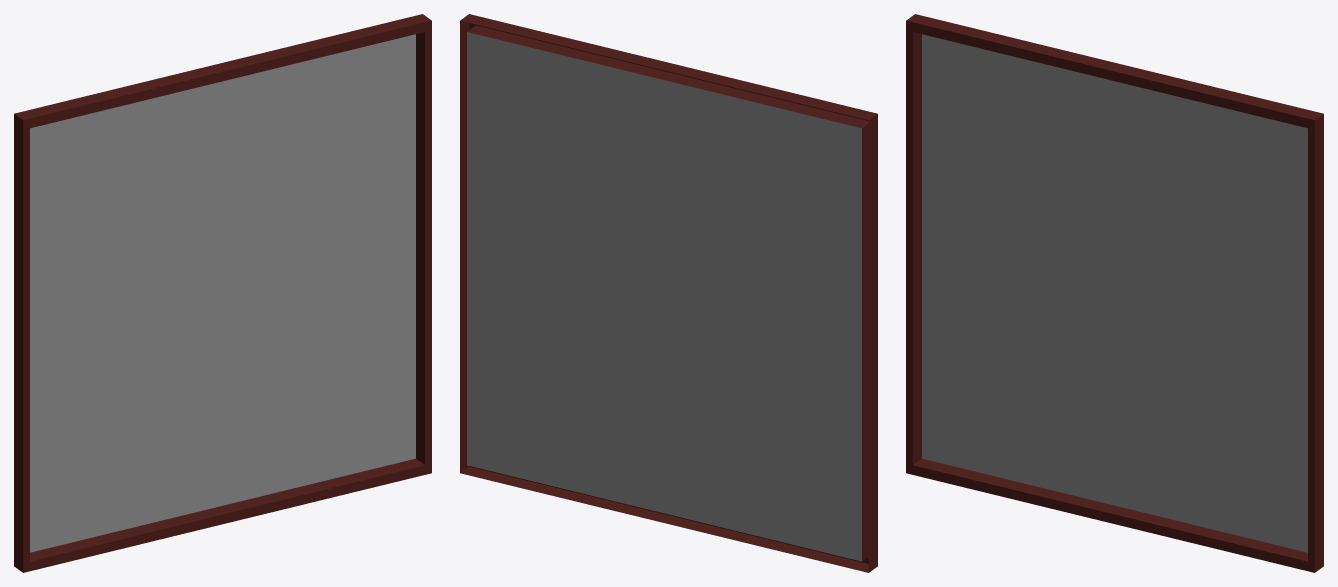
The model's file is mirror 1.FBX.
The picture shows the model from 3 angles, left to right: view 1: azimuth 30°, elevation 25°; view 2: azimuth 150°, elevation 25°; view 3: azimuth 330°, elevation 25°; orthographic projection.
Visible parts, largest first — view 1: Mirror; view 2: Mirror; view 3: Mirror.
Boxes of the visible parts, left/top/right/bottom form: Mirror: left=14, top=14, right=431, bottom=572; Mirror: left=460, top=14, right=877, bottom=572; Mirror: left=906, top=14, right=1323, bottom=572.
Bounding box in the file's own units: 118 × 125 × 4.56.
